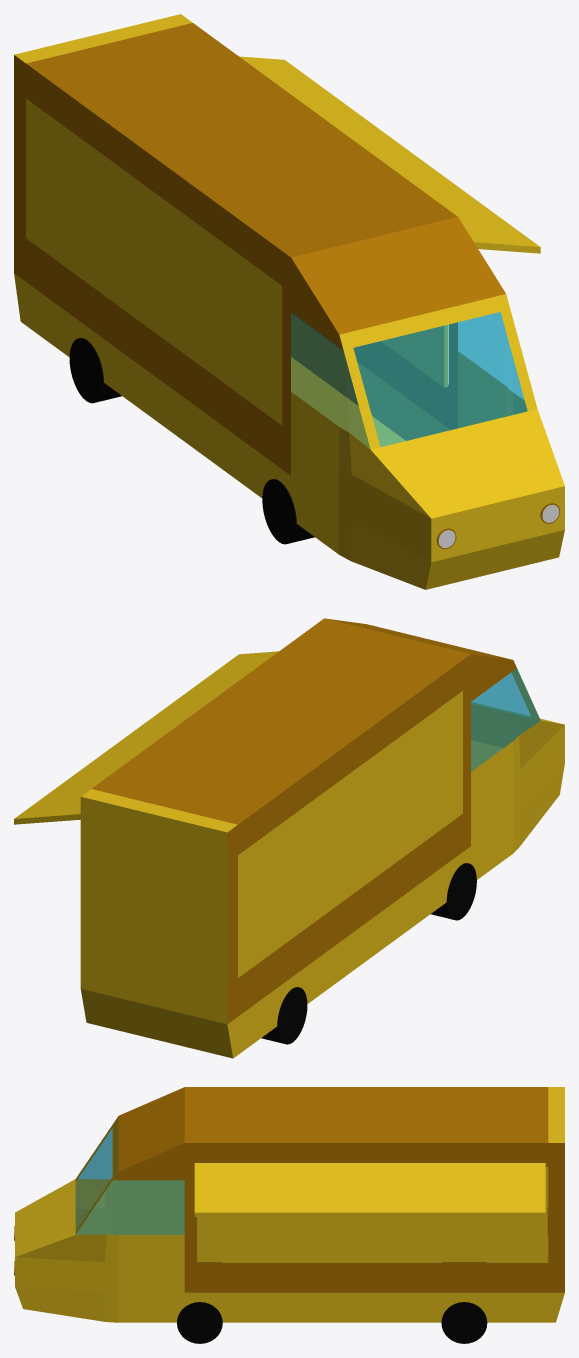
The model's file is Truck.fbx.
3 renders of one model, top to bottom at view 1: azimuth 30°, elevation 25°; view 2: azimuth 150°, elevation 25°; view 3: azimuth 270°, elevation 25°, orthographic. The views are drawn at different scales.
Visible parts, largest first — view 1: Main, Cover, Door, WheelR, WheelF; view 2: Main, Cover, WheelR, WheelF; view 3: Main, Cover, Door, WheelR, WheelF.
Boxes of the visible parts, bbox=[...] form: Main: bbox=[14, 14, 564, 589]; Cover: bbox=[239, 56, 540, 253]; Door: bbox=[381, 325, 448, 387]; WheelR: bbox=[69, 338, 121, 403]; WheelF: bbox=[262, 479, 314, 544]; Main: bbox=[80, 618, 564, 1058]; Cover: bbox=[14, 651, 278, 824]; WheelR: bbox=[261, 987, 307, 1044]; WheelF: bbox=[431, 863, 476, 920]; Main: bbox=[15, 1087, 564, 1322]; Cover: bbox=[194, 1163, 545, 1216]; Door: bbox=[197, 1167, 547, 1262]; WheelR: bbox=[441, 1262, 487, 1343]; WheelF: bbox=[177, 1262, 222, 1343].
Size of the model in its own units: 927 by 1004 by 2499.
